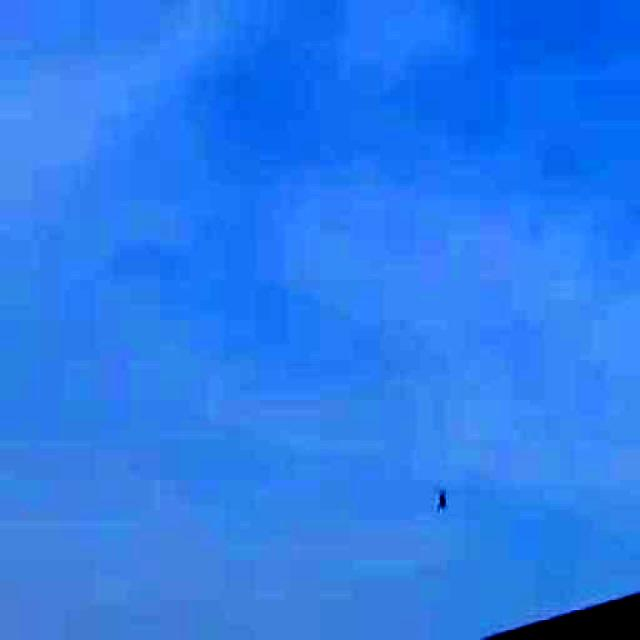drone: (416, 470, 466, 530)
